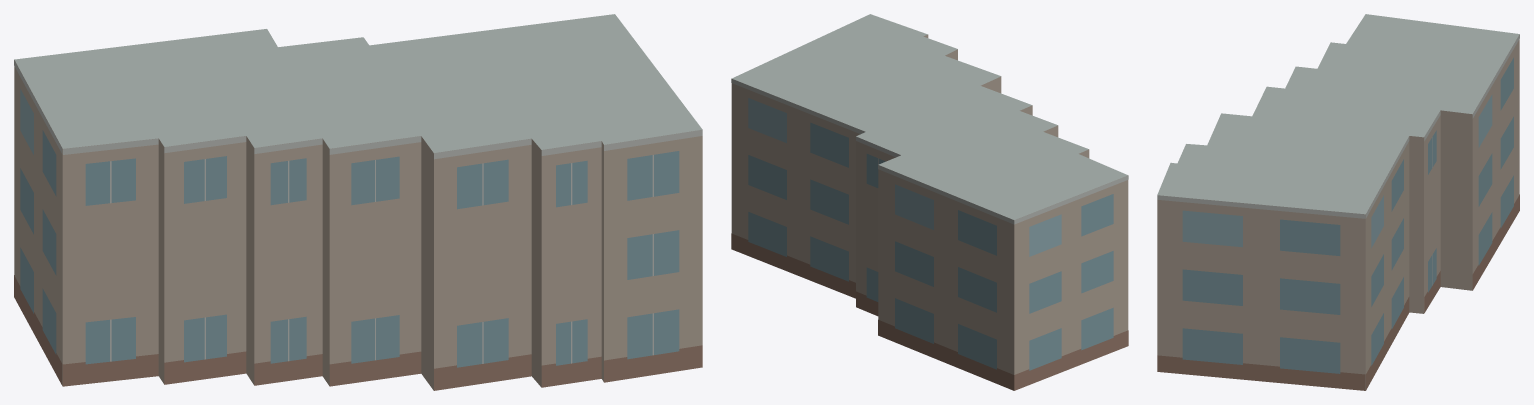
The model's file is survey-upis-32892063.glb.
The picture shows the model from 3 angles, left to right: view 1: azimuth 30°, elevation 25°; view 2: azimuth 150°, elevation 25°; view 3: azimuth 270°, elevation 25°; orthographic projection. The views are drawn at different scales.
Parts seen in each view (by area): view 1: survey-upis-32892063.tmp; view 2: survey-upis-32892063.tmp; view 3: survey-upis-32892063.tmp.
Part boxes in pixels (bbox=[...]): survey-upis-32892063.tmp: bbox=[14, 14, 702, 390]; survey-upis-32892063.tmp: bbox=[731, 14, 1128, 390]; survey-upis-32892063.tmp: bbox=[1157, 14, 1519, 390].
Size of the model in its own units: 22.92 by 9.42 by 17.54.
